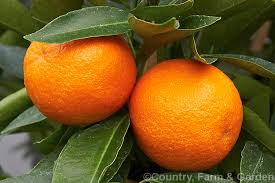orange: (130, 55, 245, 172), (19, 28, 136, 126)
